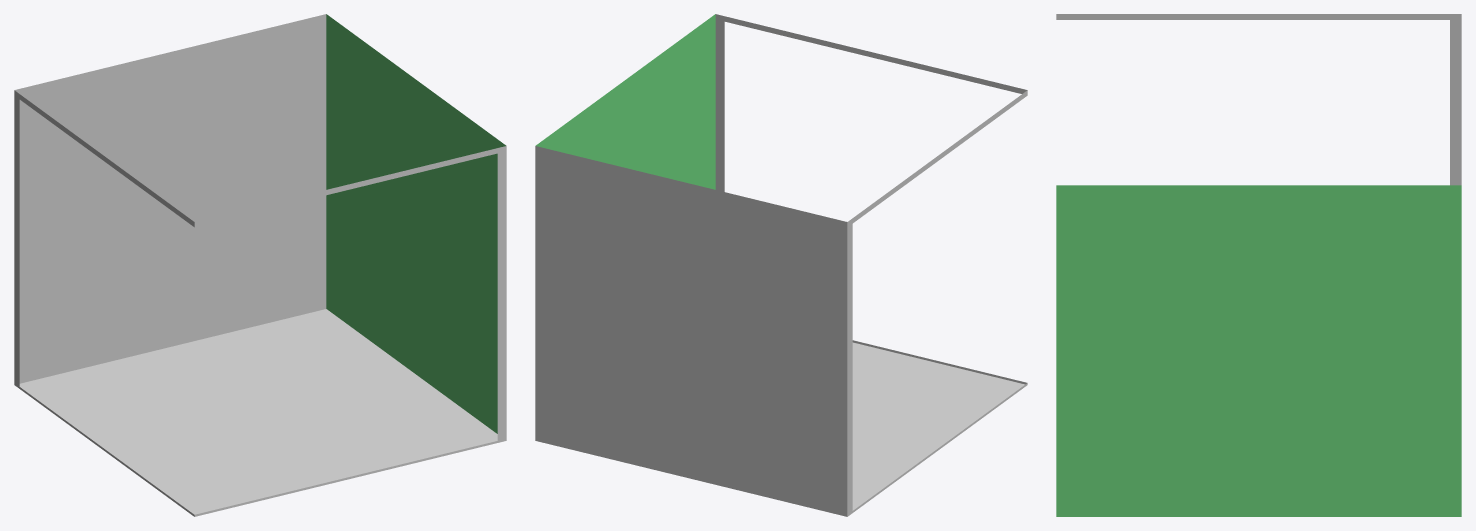
File: Cube Outter.fbx
3 views of the same model, side by side, from view 1: azimuth 30°, elevation 25°; view 2: azimuth 150°, elevation 25°; view 3: azimuth 270°, elevation 25° (orthographic). The views are drawn at different scales.
Parts seen in each view (by area): view 1: Cube-virtual; view 2: Cube-virtual; view 3: Cube-virtual.
Part boxes in pixels (box(x1,y1,x2,y2)): Cube-virtual: box(14, 14, 506, 516); Cube-virtual: box(535, 14, 1027, 516); Cube-virtual: box(1056, 14, 1461, 516).
Bounding box in the file's own units: 796 × 719 × 796.
